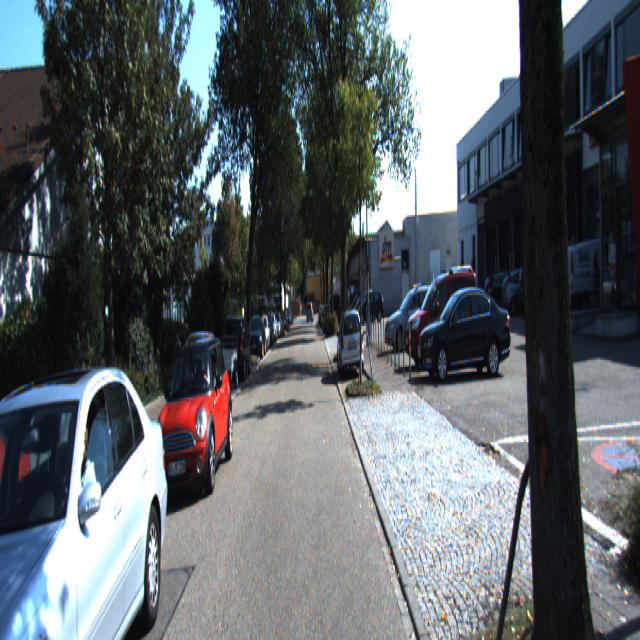Car: (0, 364, 175, 638), (151, 332, 234, 504), (416, 283, 514, 379), (0, 377, 36, 638), (405, 263, 485, 370), (554, 232, 636, 323), (174, 328, 222, 427), (384, 281, 445, 352), (337, 306, 366, 382), (222, 313, 251, 383), (212, 341, 238, 386), (246, 315, 266, 363)
